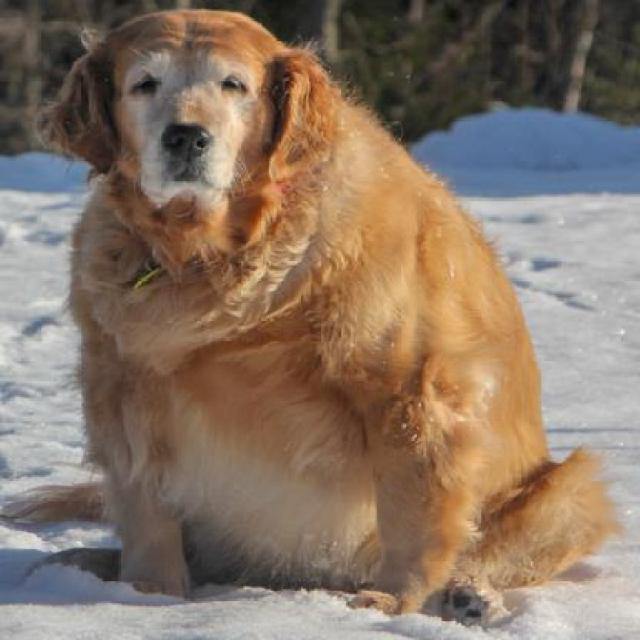Dog: (32, 8, 616, 630)
